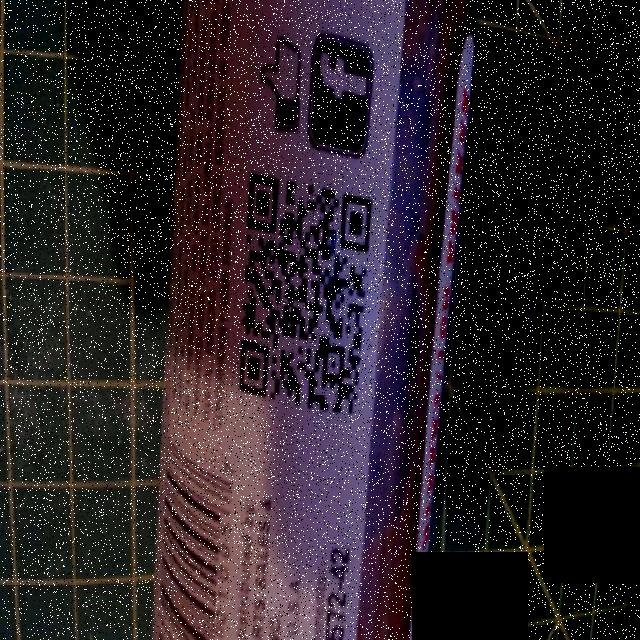QR_CODE: (228, 156, 388, 429)
